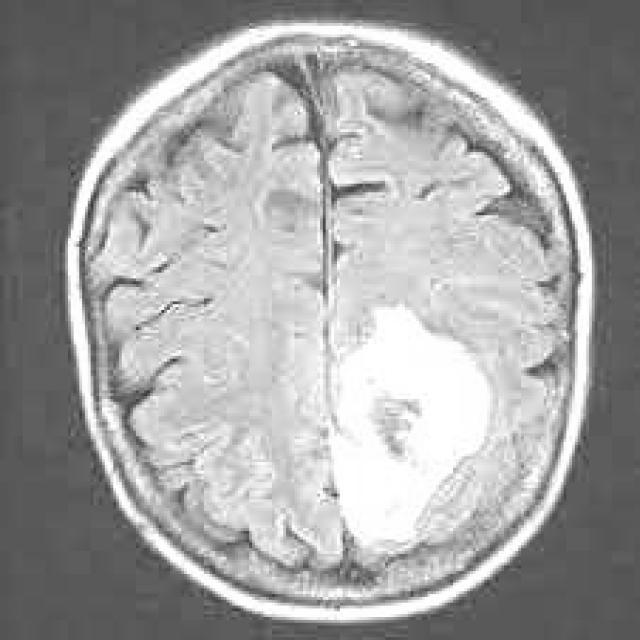Tumor: (331, 307, 498, 548)
